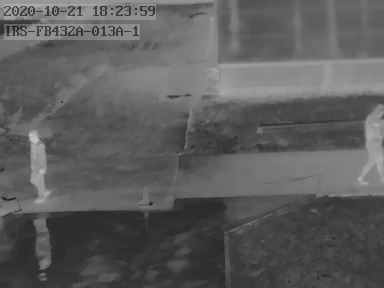person: (360, 103, 384, 183), (27, 132, 48, 200)
